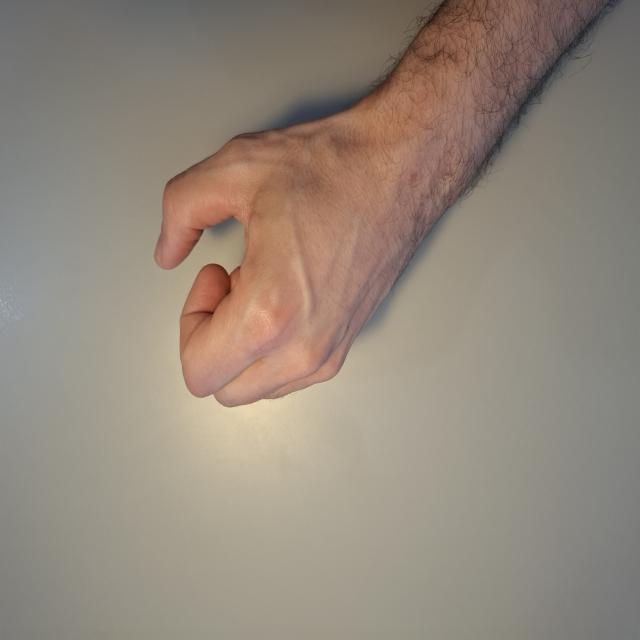glove_off: (152, 97, 412, 409)
